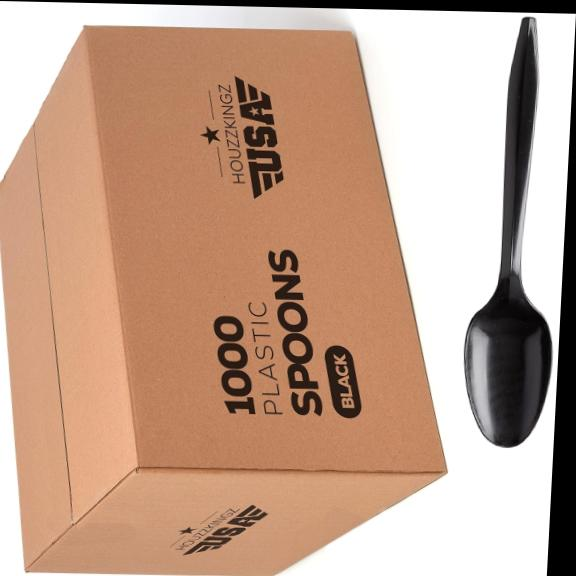Plastik: (465, 17, 551, 446)
